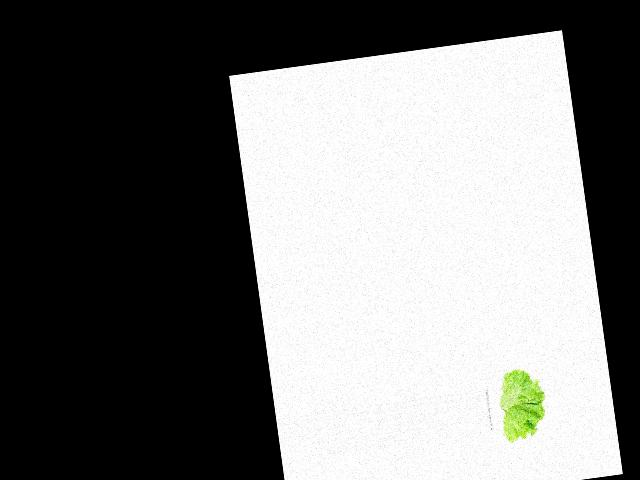lettuce: (486, 364, 551, 445)
